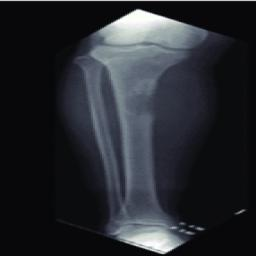cancer: (118, 88, 157, 121)
